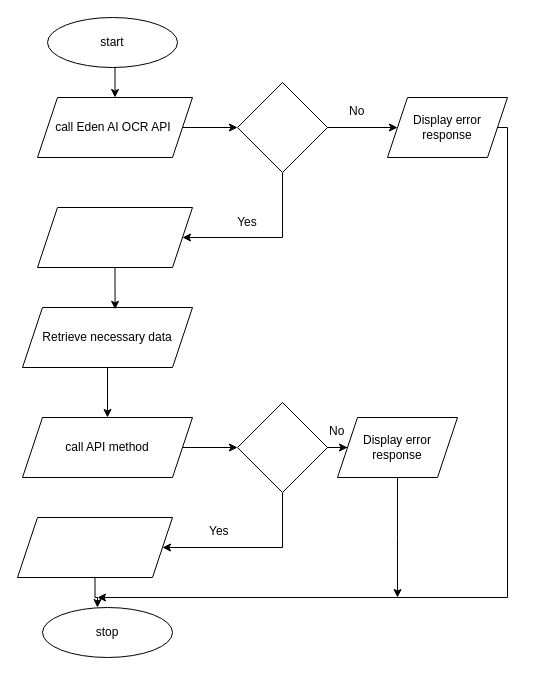
The diagram is 533 pixels wide and 675 high, and some of its shapes have lost their labels. The shapes that lost their labels are listed below. From the top down, each one's centre as x and y in pixels, then its label:
point 282,127: Is response valid?
point 114,237: Recieve extracted data
point 282,447: Is resquest valid?
point 94,547: create Inspection Lot
